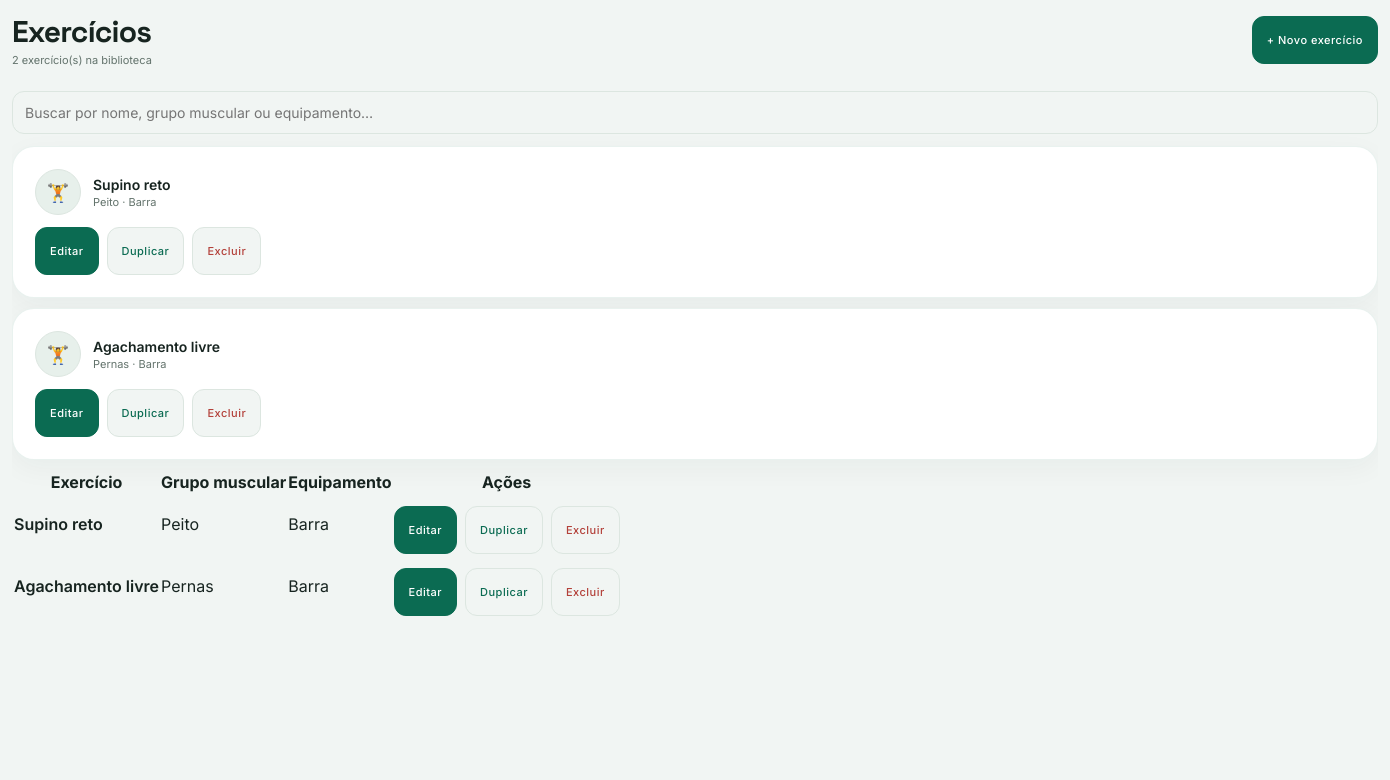
ExercisesPage — biblioteca de exercícios › busca por nome/grupo muscular
Type "pernas" into the search field with placeholder "Buscar por nome, grupo muscular ou equipamento…" at (695,112), box x1=12 y1=91 x2=1378 y2=134
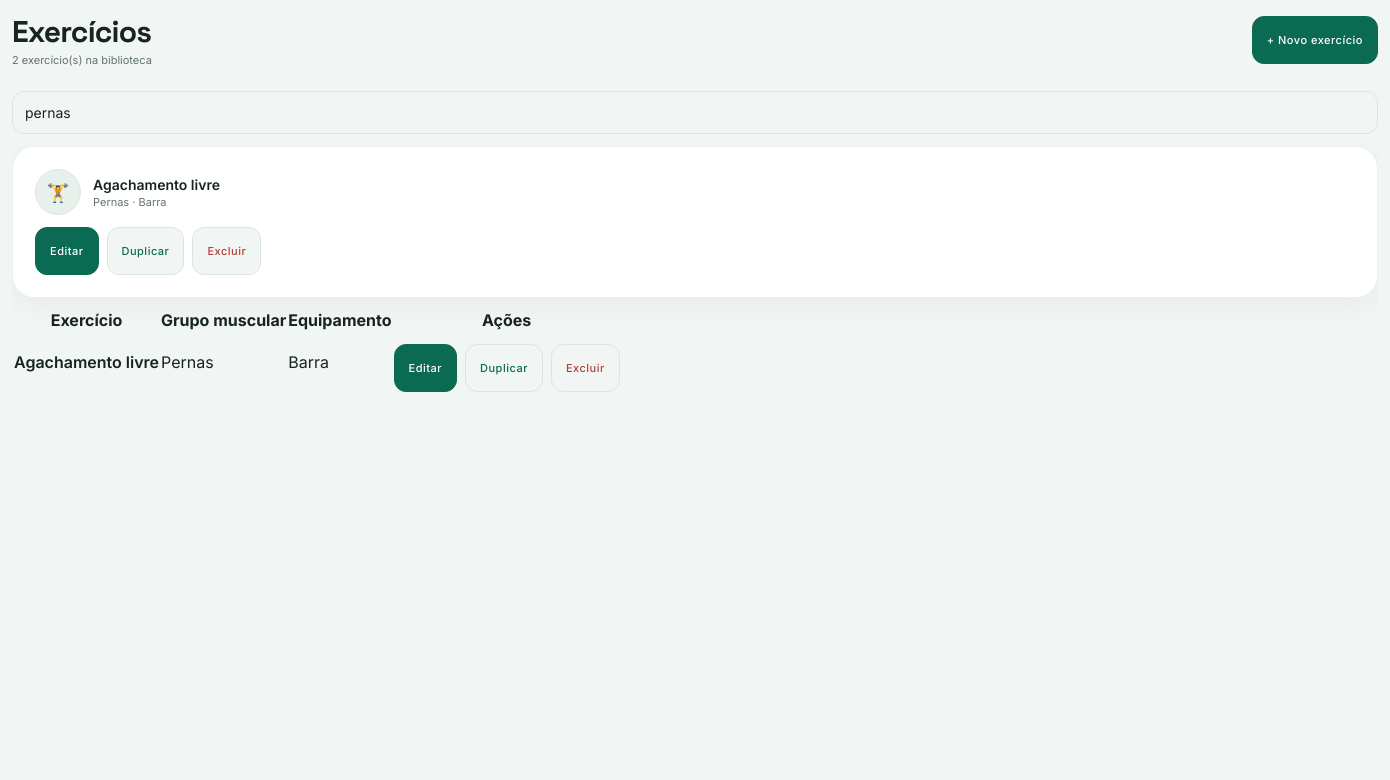
Expected: the 1st text "Agachamento livre" is shown, x1=93 y1=176 x2=220 y2=192
Expected: the text "Supino reto" is not shown
